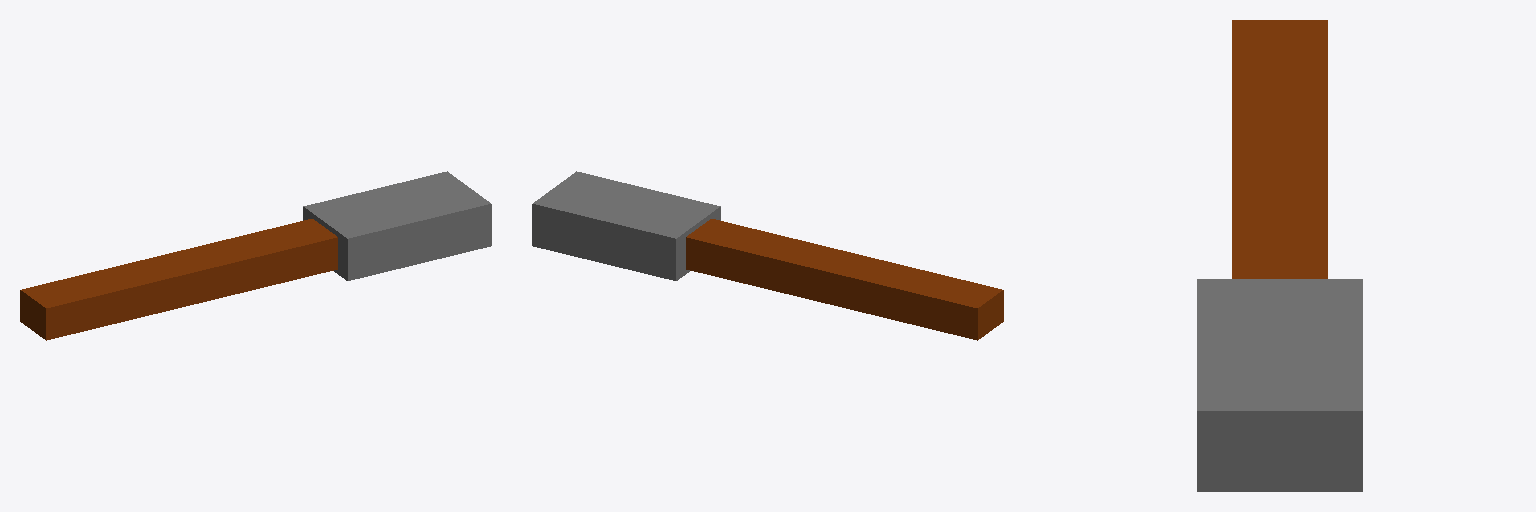
URDF robot description (handle_head):
<?xml version="1.0"?>
<robot name="handle_head">

  <link name="handle_head">
    <!-- Handle -->
    <visual>
              <origin xyz="0 0 0" rpy="0 0 0"/>
        <geometry>
          <box size="0.1608312768958775 0.024491865927396637 0.016890364353031005"/>
        </geometry>
        
      <material name="brown">
        <color rgba="0.55 0.27 0.07 1.0"/>
      </material>
    </visual>
    <collision>
              <origin xyz="0 0 0" rpy="0 0 0"/>
        <geometry>
          <box size="0.1608312768958775 0.024491865927396637 0.016890364353031005"/>
        </geometry>
        
    </collision>

    <!-- Head -->
    <visual>
              <origin xyz="0.12003323228099766 0 0" rpy="0 0 0"/>
        <geometry>
          <box size="0.07923518766611783 0.042146985453285005 0.022422198816448392"/>
        </geometry>
        
      <material name="gray">
        <color rgba="0.5 0.5 0.5 1.0"/>
      </material>
    </visual>
    <collision>
              <origin xyz="0.12003323228099766 0 0" rpy="0 0 0"/>
        <geometry>
          <box size="0.07923518766611783 0.042146985453285005 0.022422198816448392"/>
        </geometry>
        
    </collision>

    <inertial>
      <origin xyz="0.08153270975344495 0 0" rpy="0 0 0"/>
      <mass value="0.06522000803256908"/>
      <inertia ixx="9.956940177363341e-06" iyy="0.0002753524812977253" izz="0.000280602693990773" ixy="0" ixz="0" iyz="0"/>
    </inertial>
  </link>

</robot>

--- Facts derived from the render (not from the file) ---
3 views of the same robot in one strip: view 1: azimuth 30°, elevation 25°; view 2: azimuth 150°, elevation 25°; view 3: azimuth 270°, elevation 25° (orthographic).
Robot: handle_head — 1 links, 0 joints (none); root link handle_head; default pose: every joint at zero.
Links seen in each view (by area): view 1: handle_head; view 2: handle_head; view 3: handle_head.
Link boxes in pixels (x1,y1,x2,y2): handle_head: (20, 171, 491, 340); handle_head: (532, 171, 1003, 340); handle_head: (1197, 20, 1362, 491).
Size in the robot's own frame: 0.2401 by 0.0421 by 0.0224 metres.
Geometry: primitives only (box / cylinder / sphere), no mesh files.
